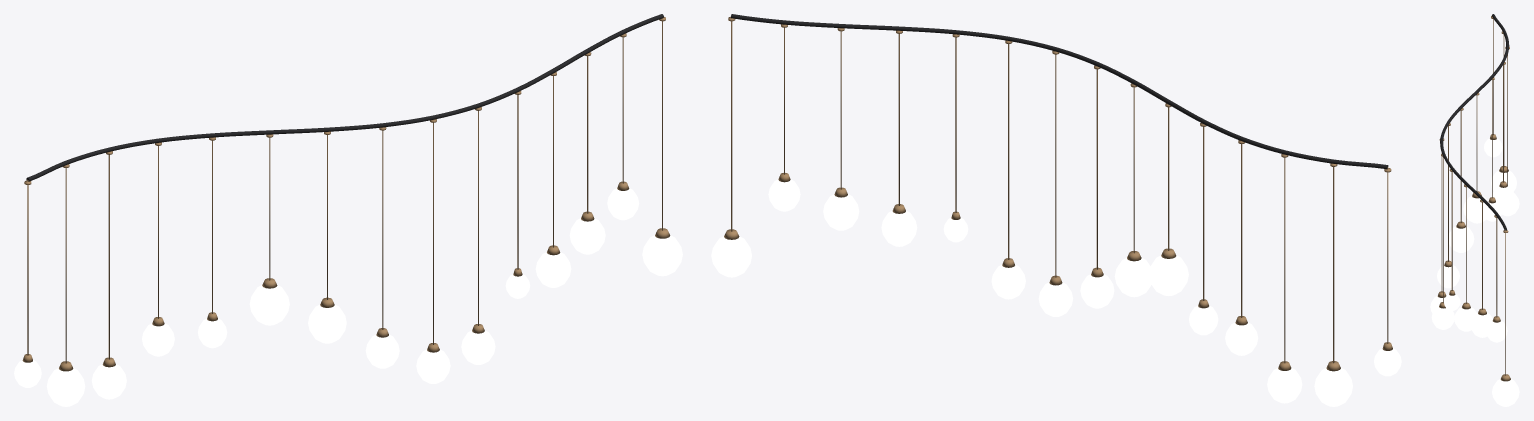
File: dining_chandelier.gltf
3 views of the same model, side by side, from view 1: azimuth 30°, elevation 25°; view 2: azimuth 150°, elevation 25°; view 3: azimuth 270°, elevation 25° (orthographic). The views are drawn at different scales.
Visible parts, largest first — view 1: DiningChandelier_Globes, DiningChandelier_Cables, DiningChandelier_Ribbon, DiningChandelier_Caps; view 2: DiningChandelier_Globes, DiningChandelier_Cables, DiningChandelier_Ribbon, DiningChandelier_Caps; view 3: DiningChandelier_Globes, DiningChandelier_Cables, DiningChandelier_Ribbon, DiningChandelier_Caps.
Boxes of the visible parts, x1,y1,x2,y2 form: DiningChandelier_Globes: (14, 188, 682, 406); DiningChandelier_Cables: (27, 21, 662, 363); DiningChandelier_Ribbon: (26, 14, 663, 181); DiningChandelier_Caps: (22, 17, 670, 371); DiningChandelier_Globes: (711, 179, 1401, 406); DiningChandelier_Cables: (731, 21, 1388, 363); DiningChandelier_Ribbon: (731, 14, 1388, 169); DiningChandelier_Caps: (724, 16, 1392, 371); DiningChandelier_Globes: (1430, 138, 1519, 406); DiningChandelier_Cables: (1441, 19, 1507, 375); DiningChandelier_Ribbon: (1440, 14, 1509, 230); DiningChandelier_Caps: (1437, 16, 1510, 381).
Bounding box in the file's own units: 4.81 × 1.82 × 0.8112.
